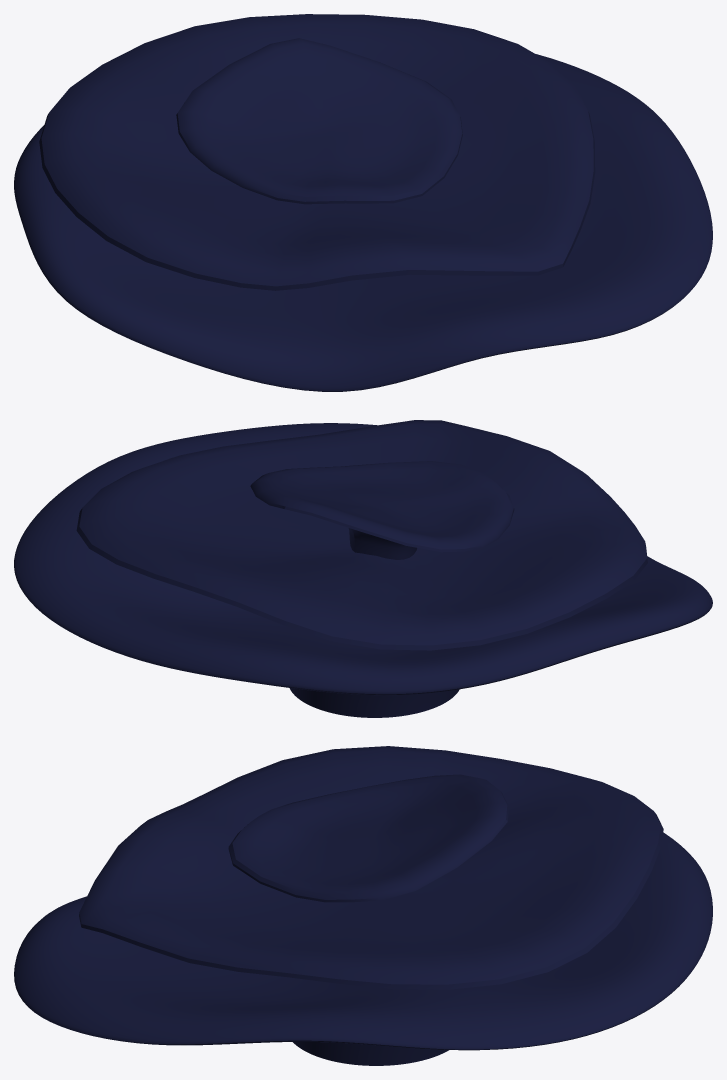
Rendered from coral 4.fbx.
3 renders of one model, top to bottom at view 1: azimuth 30°, elevation 25°; view 2: azimuth 150°, elevation 25°; view 3: azimuth 270°, elevation 25°, orthographic. The views are drawn at different scales.
Parts seen in each view (by area): view 1: Circle.001, Circle, Circle.002; view 2: Circle.001, Circle, Circle.002; view 3: Circle.001, Circle, Circle.002.
Part boxes in pixels (x1,y1,x2,y2): Circle.001: (39, 14, 595, 290); Circle: (14, 54, 712, 391); Circle.002: (176, 38, 462, 204); Circle.001: (76, 420, 647, 650); Circle: (14, 423, 712, 717); Circle.002: (250, 461, 514, 559); Circle.001: (79, 746, 663, 989); Circle: (14, 832, 712, 1065); Circle.002: (228, 774, 508, 902).
Size of the model in its own units: 250 by 87.45 by 247.
